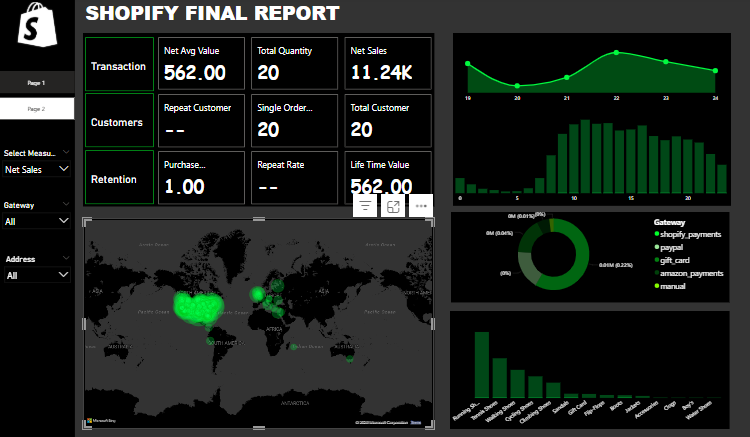

The page's visual inventory and layout, read from the dashboard file:
{"tool":"powerbi","page":{"name":"Page 1","canvas":[1700,1000],"ordinal":0},"visuals":[{"type":"shape","box":[0,0,174.4,1000],"z":0},{"type":"textbox","box":[192.3,0,794.1,86],"z":1000},{"type":"shape","box":[192.5,82.5,795,392.5],"z":2000},{"type":"cardVisual","fields":{"Data":["shopify_sales.Net Avg Value","shopify_sales.Total Quantity","shopify_sales.Net Sales"]},"box":[357.5,86,629,129],"z":3000},{"type":"cardVisual","fields":{"Data":["shopify_sales.TP"]},"box":[192.5,85,165,132.5],"z":4000},{"type":"cardVisual","fields":{"Data":["shopify_sales.RC","shopify_sales.SOC","shopify_sales.TC"]},"box":[357.5,215,630,130],"z":5000},{"type":"cardVisual","fields":{"Data":["shopify_sales.CB"]},"box":[192.5,212.5,165,132.5],"z":6000},{"type":"cardVisual","fields":{"Data":["shopify_sales.Purchase Frequency","shopify_sales.Repeat Rate","shopify_sales.Life Time Value"]},"box":[357.5,345,630,130],"z":7000},{"type":"cardVisual","fields":{"Data":["shopify_sales.Retention"]},"box":[192.5,342.5,165,132.5],"z":8000},{"type":"shape","box":[192.5,500,795,477.5],"z":9000},{"type":"map","fields":{"Size":["Sum(shopify_sales.Billing Address Zip)"],"Category":["shopify_sales.CITY"]},"box":[192.5,500,795,477.5],"z":10000},{"type":"shape","box":[1029.4,81.4,629,391.4],"z":11000},{"type":"areaChart","fields":{"Y":["shopify_sales.Net Sales"],"Category":["shopify_sales.Invoice Date.Variation.Date Hierarchy.Day"]},"box":[1047.5,86,590.5,160.6],"z":12000},{"type":"columnChart","fields":{"Y":["shopify_sales.Net Sales"],"Category":["shopify_sales.Hour"]},"box":[1029.5,247.7,650,227.3],"z":13000},{"type":"shape","box":[1025.6,486,630.2,204.7],"z":14000},{"type":"donutChart","fields":{"Y":["shopify_sales.Net Sales"],"Category":["shopify_sales.Gateway"]},"box":[1025.6,472.1,630.2,218.6],"z":15000},{"type":"shape","box":[1023.3,709.3,632.6,267.4],"z":16000},{"type":"columnChart","fields":{"Y":["shopify_sales.Net Sales"],"Category":["shopify_sales.Product Type"]},"box":[1023.3,690.7,634.9,300],"z":17000},{"type":"image","box":[4.7,7,169.8,111.6],"z":18000},{"type":"slicer","fields":{"Values":["Select Measure.Select Measure"]},"box":[0,337.2,174.4,72.1],"z":19000},{"type":"slicer","fields":{"Values":["shopify_sales.Gateway"]},"box":[0,455.8,174.4,88.4],"z":20000},{"type":"slicer","fields":{"Values":["shopify_sales.Billing Address Province"]},"box":[4.7,576.7,169.8,86],"z":21000},{"type":"pageNavigator","box":[0,166.7,173.3,111.1],"z":22000}]}

Visuals, with their boxes on the page's 1700x1000 design canvas (x1, y1, x2, y2). These are canvas units, not pixel positions in the 750x437 screenshot, which may show the page scaled, cropped or inside an application window:
shape: 0, 0, 174, 1000
textbox: 192, 0, 986, 86
shape: 192, 82, 988, 475
cardVisual - shopify_sales.Net Avg Value x shopify_sales.Total Quantity: 358, 86, 986, 215
cardVisual - shopify_sales.TP: 192, 85, 358, 218
cardVisual - shopify_sales.RC x shopify_sales.SOC: 358, 215, 988, 345
cardVisual - shopify_sales.CB: 192, 212, 358, 345
cardVisual - shopify_sales.Purchase Frequency x shopify_sales.Repeat Rate: 358, 345, 988, 475
cardVisual - shopify_sales.Retention: 192, 342, 358, 475
shape: 192, 500, 988, 978
map - Sum(shopify_sales.Billing Address Zip) x shopify_sales.CITY: 192, 500, 988, 978
shape: 1029, 81, 1658, 473
areaChart - shopify_sales.Net Sales x shopify_sales.Invoice Date.Variation.Date Hierarchy.Day: 1048, 86, 1638, 247
columnChart - shopify_sales.Net Sales x shopify_sales.Hour: 1030, 248, 1680, 475
shape: 1026, 486, 1656, 691
donutChart - shopify_sales.Net Sales x shopify_sales.Gateway: 1026, 472, 1656, 691
shape: 1023, 709, 1656, 977
columnChart - shopify_sales.Net Sales x shopify_sales.Product Type: 1023, 691, 1658, 991
image: 5, 7, 174, 119
slicer - Select Measure.Select Measure: 0, 337, 174, 409
slicer - shopify_sales.Gateway: 0, 456, 174, 544
slicer - shopify_sales.Billing Address Province: 5, 577, 174, 663
pageNavigator: 0, 167, 173, 278
